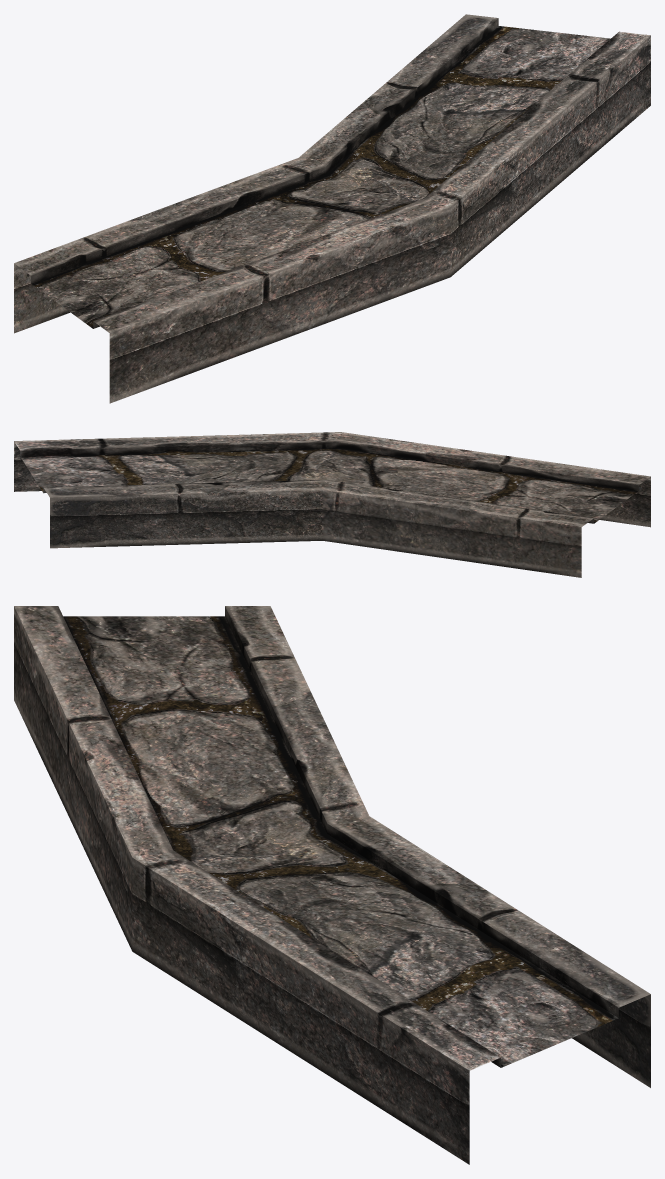
The model's file is dun_stone_bar05.FBX.
3 views of the same model, one above another, from view 1: azimuth 30°, elevation 25°; view 2: azimuth 150°, elevation 25°; view 3: azimuth 270°, elevation 25° (orthographic). The views are drawn at different scales.
Visible parts, largest first — view 1: dun_stone_bar005; view 2: dun_stone_bar005; view 3: dun_stone_bar005.
Part boxes in pixels (x1=…): dun_stone_bar005: x1=14, y1=14, x2=650, y2=403; dun_stone_bar005: x1=14, y1=432, x2=650, y2=577; dun_stone_bar005: x1=14, y1=606, x2=650, y2=1164.
Bounding box in the file's own units: 292 × 27.53 × 169.
